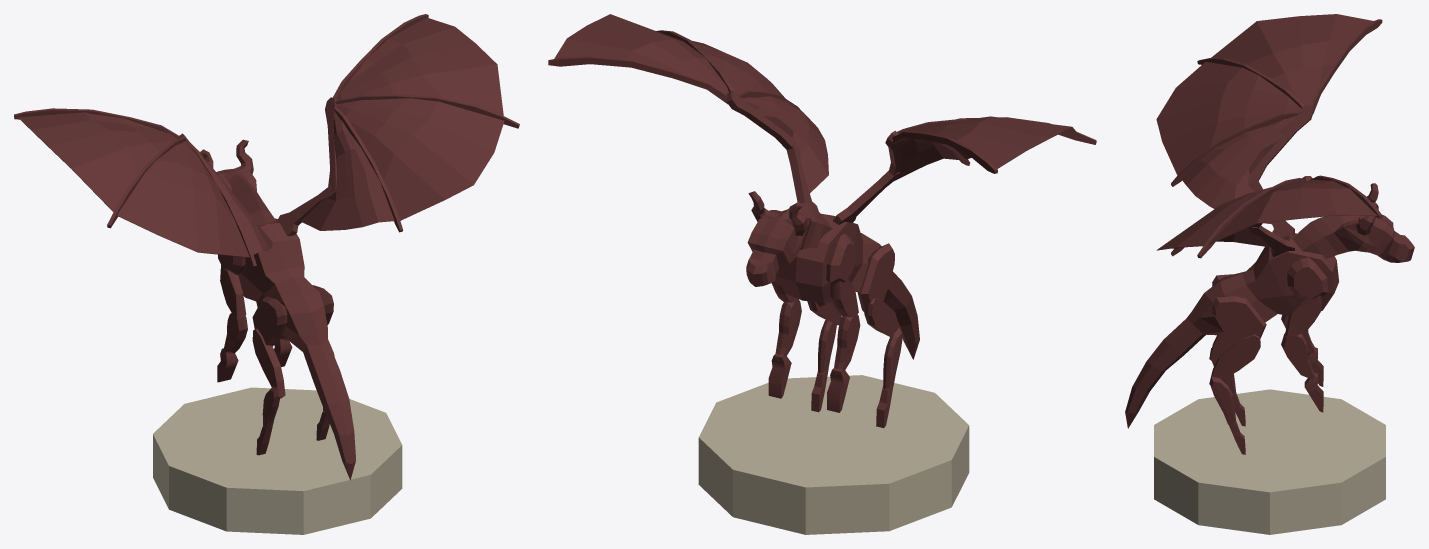
File: DragonFBX.fbx
The picture shows the model from 3 angles, left to right: view 1: azimuth 30°, elevation 25°; view 2: azimuth 150°, elevation 25°; view 3: azimuth 270°, elevation 25°; orthographic projection. The views are drawn at different scales.
Parts seen in each view (by area): view 1: dragon; view 2: dragon; view 3: dragon.
Boxes of the visible parts, <box> form: dragon: <box>14,14,519,534</box>; dragon: <box>548,14,1096,534</box>; dragon: <box>1125,14,1414,534</box>.
Bounding box in the file's own units: 1.47 × 1.25 × 0.8871.
